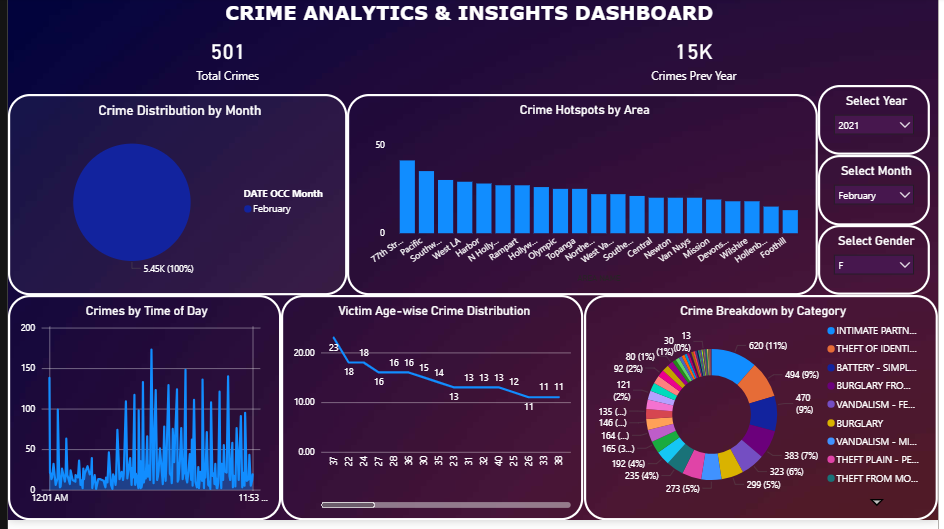

The page's visual inventory and layout, read from the dashboard file:
{"tool":"powerbi","page":{"name":"Overall","canvas":[1280,720],"ordinal":0},"visuals":[{"type":"textbox","box":[255.7,0,767.1,47.1],"z":0},{"type":"pieChart","title":"Crime Distribution by Month","fields":{"Category":["Crime_Data_Cleaned.DATE OCC.Variation.Date Hierarchy.Month"],"Y":["Sum(Crime_Data_Cleaned.AREA)"]},"box":[0,132.9,467.1,277.1],"z":1000},{"type":"donutChart","title":"Crime Breakdown by Category","fields":{"Category":["Crime_Data_Cleaned.Crm Cd Desc"],"Y":["Sum(Crime_Data_Cleaned.AREA)"]},"box":[792.9,410,487.1,310],"z":2000},{"type":"slicer","title":"Select Month","fields":{"Values":["Crime_Data_Cleaned.Month"]},"box":[1114.3,217.1,154.3,97.1],"z":3000},{"type":"card","fields":{"Values":["Crime_Data_Cleaned.Total Crimes"]},"box":[68.6,45.7,467.1,75.7],"z":4000},{"type":"lineChart","title":"Victim Age-wise Crime Distribution","fields":{"Category":["Crime_Data_Cleaned.Vict Age Clean"],"Y":["CountNonNull(Crime_Data_Cleaned.Premis Desc)"]},"box":[375.7,410,415.7,310],"z":5000},{"type":"stackedAreaChart","title":"Crimes by Time of Day","fields":{"Category":["Crime_Data_Cleaned.TIME OCC"],"Y":["Sum(Crime_Data_Cleaned.AREA)"]},"box":[0,410,375.7,310],"z":6000},{"type":"clusteredColumnChart","title":"Crime Hotspots by Area","fields":{"Category":["Crime_Data_Cleaned.AREA NAME"],"Y":["CountNonNull(Crime_Data_Cleaned.Crm Cd Desc)"]},"box":[466.6,133.5,648.3,276.6],"z":7000},{"type":"slicer","title":"Select Year","fields":{"Values":["Crime_Data_Cleaned.Year","Crime_Data_Cleaned.TIME OCC"]},"box":[1114.3,121.4,154.3,95.7],"z":8000},{"type":"card","fields":{"Values":["Crime_Data_Cleaned.Crimes Prev Year"]},"box":[741.4,45.7,404.3,75.7],"z":9000},{"type":"slicer","title":"Select Gender","fields":{"Values":["Crime_Data_Cleaned.Vict Sex"]},"box":[1114.3,314.3,154.3,95.7],"z":10000}]}

Visuals, with their boxes in screenshot pixels (x1, y1, x2, y2), scaled from the page's 1280x720 canvas onto the 944x529 screenshot:
textbox: (left=189, top=0, right=754, bottom=35)
"Crime Distribution by Month" pieChart: (left=0, top=98, right=344, bottom=301)
"Crime Breakdown by Category" donutChart: (left=585, top=301, right=943, bottom=528)
"Select Month" slicer: (left=822, top=160, right=936, bottom=231)
card - Crime_Data_Cleaned.Total Crimes: (left=51, top=34, right=395, bottom=89)
"Victim Age-wise Crime Distribution" lineChart: (left=277, top=301, right=584, bottom=528)
"Crimes by Time of Day" stackedAreaChart: (left=0, top=301, right=277, bottom=528)
"Crime Hotspots by Area" clusteredColumnChart: (left=344, top=98, right=822, bottom=301)
"Select Year" slicer: (left=822, top=89, right=936, bottom=160)
card - Crime_Data_Cleaned.Crimes Prev Year: (left=547, top=34, right=845, bottom=89)
"Select Gender" slicer: (left=822, top=231, right=936, bottom=301)
